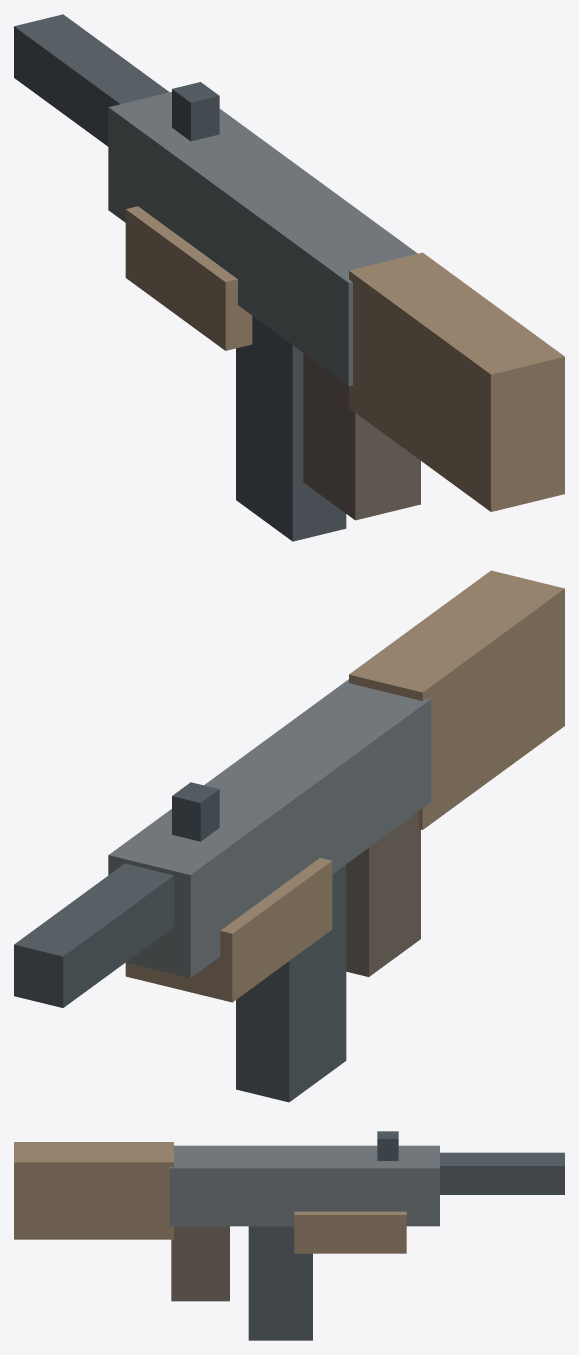
Rendered from assault_rifle.glb.
3 views of the same model, one above another, from view 1: azimuth 30°, elevation 25°; view 2: azimuth 150°, elevation 25°; view 3: azimuth 270°, elevation 25° (orthographic). The views are drawn at different scales.
Visible parts, largest first — view 1: stock, receiver, magazine, grip, barrel, handguard, sight; view 2: receiver, stock, magazine, barrel, handguard, grip, sight; view 3: receiver, stock, magazine, barrel, handguard, grip, sight.
Boxes of the visible parts, x1=… form: stock: x1=349, y1=252, x2=564, y2=511; receiver: x1=108, y1=92, x2=417, y2=385; magazine: x1=236, y1=316, x2=346, y2=541; grip: x1=303, y1=353, x2=420, y2=520; barrel: x1=14, y1=14, x2=169, y2=146; handguard: x1=125, y1=206, x2=252, y2=350; sight: x1=172, y1=82, x2=219, y2=141; receiver: x1=108, y1=679, x2=430, y2=977; stock: x1=349, y1=570, x2=564, y2=829; magazine: x1=236, y1=864, x2=346, y2=1102; barrel: x1=14, y1=863, x2=174, y2=1007; handguard: x1=125, y1=858, x2=332, y2=1002; grip: x1=346, y1=811, x2=420, y2=976; sight: x1=172, y1=782, x2=219, y2=841; receiver: x1=169, y1=1145, x2=439, y2=1226; stock: x1=14, y1=1142, x2=173, y2=1239; magazine: x1=248, y1=1226, x2=312, y2=1340; barrel: x1=440, y1=1152, x2=564, y2=1194; handguard: x1=294, y1=1211, x2=406, y2=1253; grip: x1=171, y1=1226, x2=229, y2=1301; sight: x1=377, y1=1131, x2=398, y2=1160.
Size of the model in its own units: 0.13 by 0.41 by 1.03.
